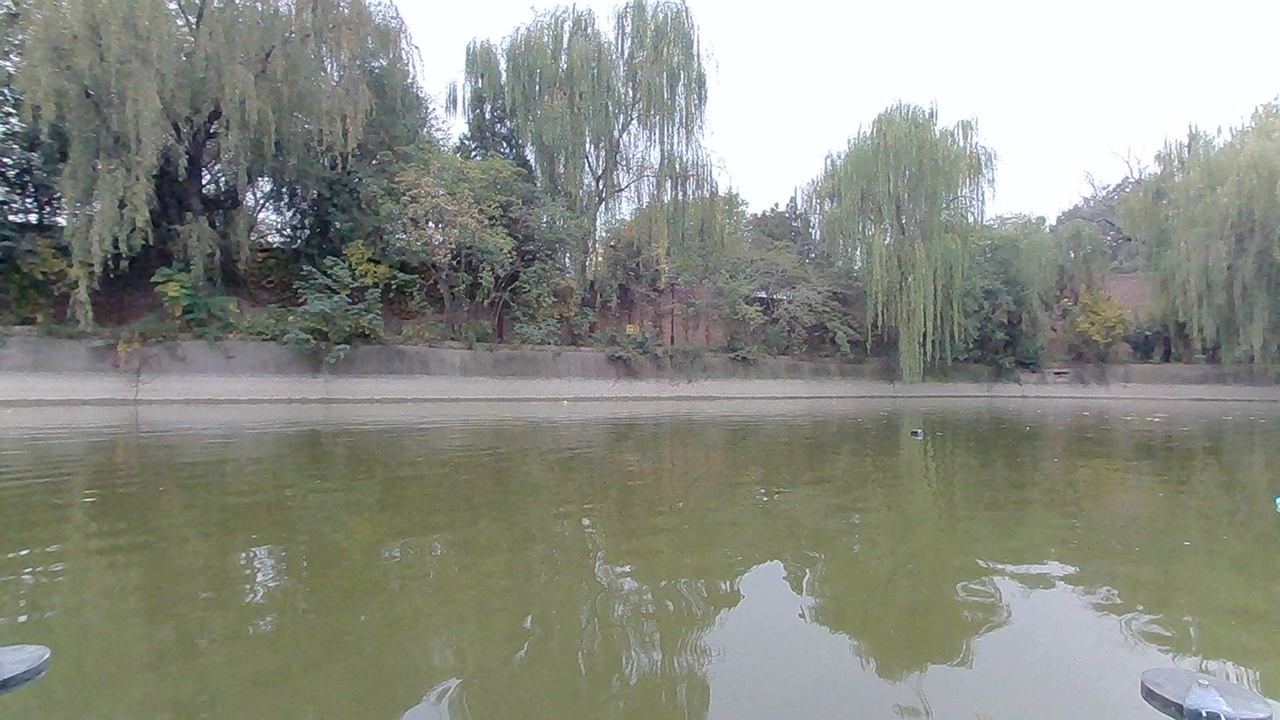bottle: (900, 418, 928, 444)
